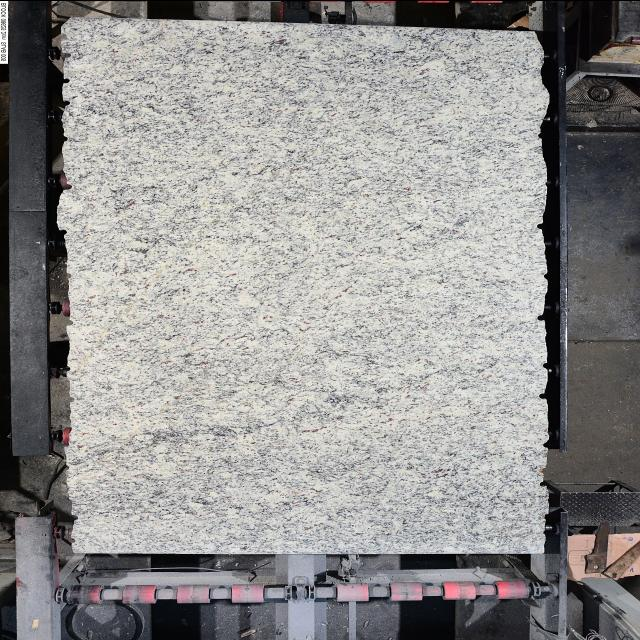chapa: (60, 15, 545, 553)
veio: (62, 50, 74, 59), (65, 318, 77, 327), (536, 312, 546, 322), (540, 360, 550, 370), (56, 227, 70, 234), (69, 512, 81, 520), (62, 76, 72, 85), (60, 32, 70, 40), (62, 98, 72, 106), (62, 182, 72, 190), (542, 439, 550, 448), (538, 391, 546, 399), (535, 222, 544, 228), (538, 481, 548, 486)
